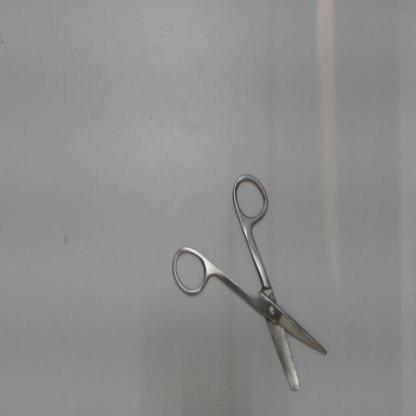Dressing Scissors: (166, 166, 338, 401)
